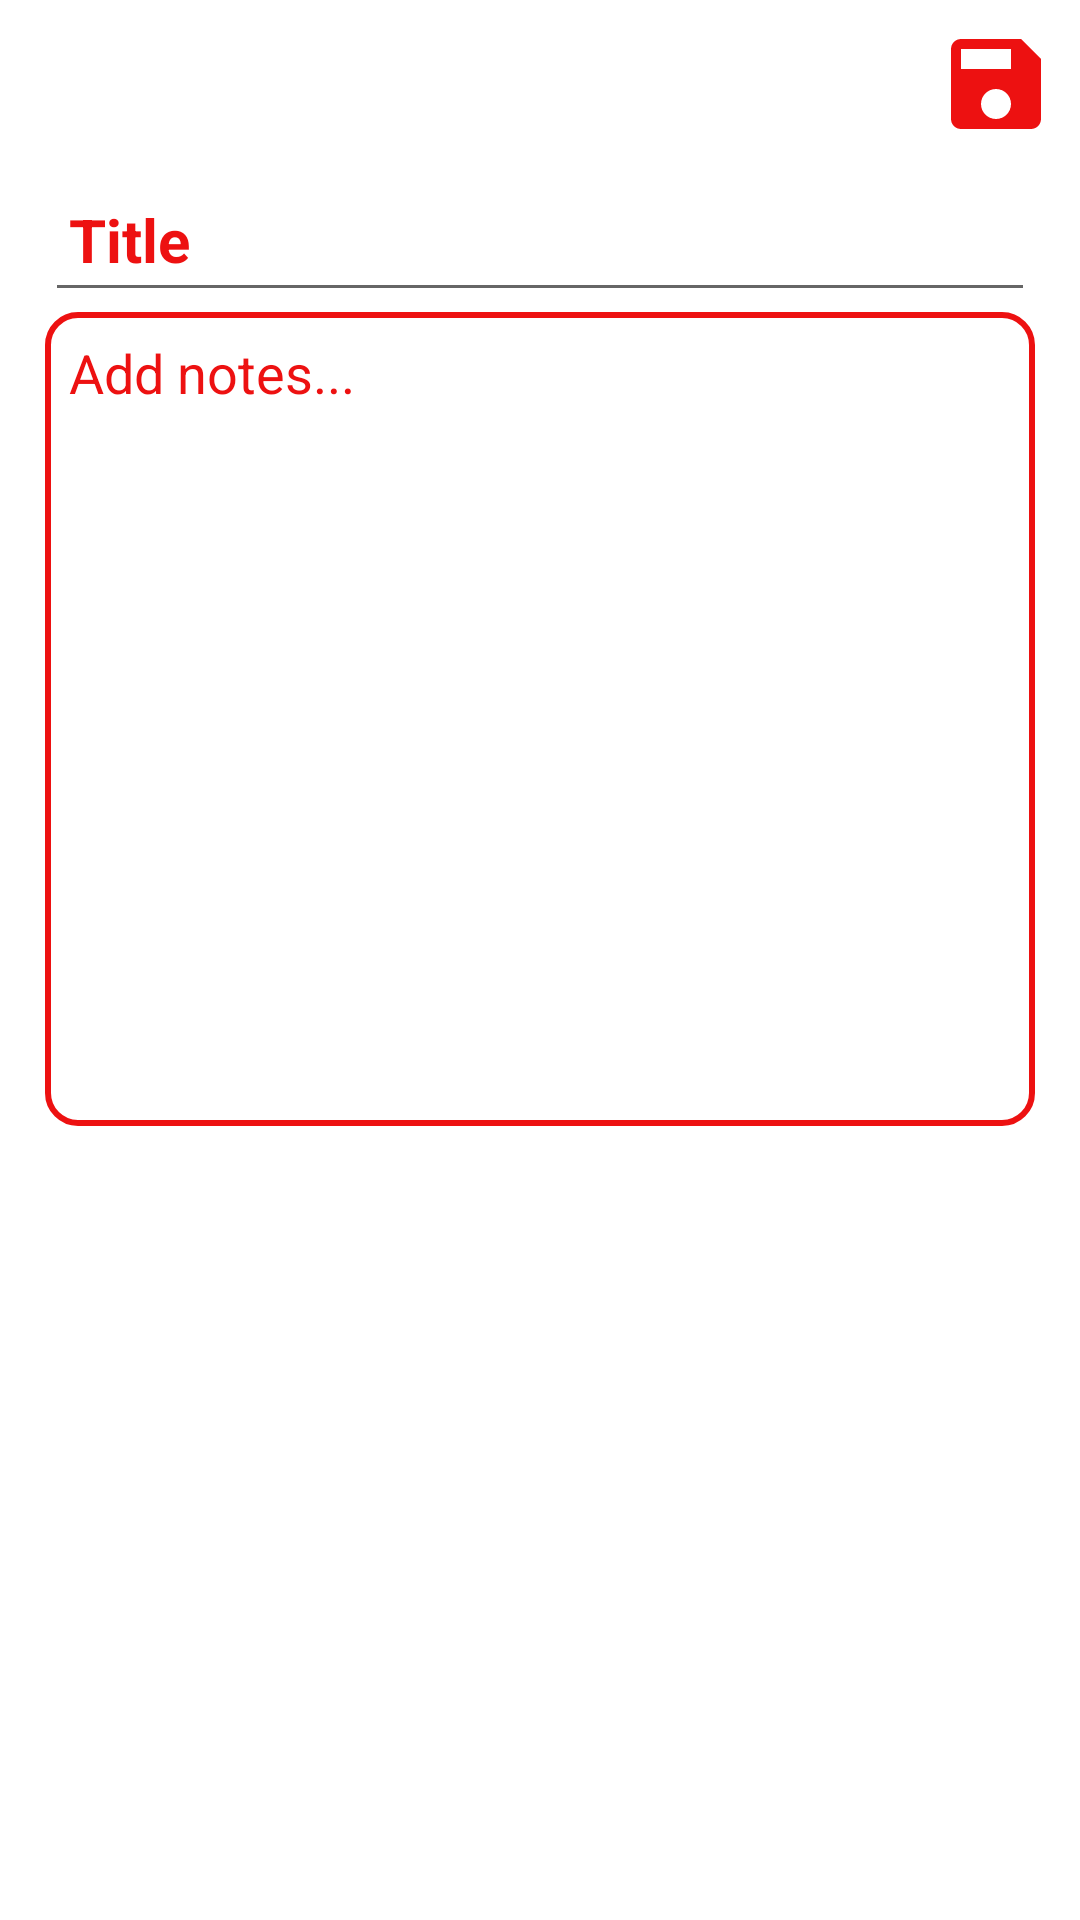

Icon click points for this 1080 × 1920 phone screenshot, format point (x, y):
save: point (996, 84)
